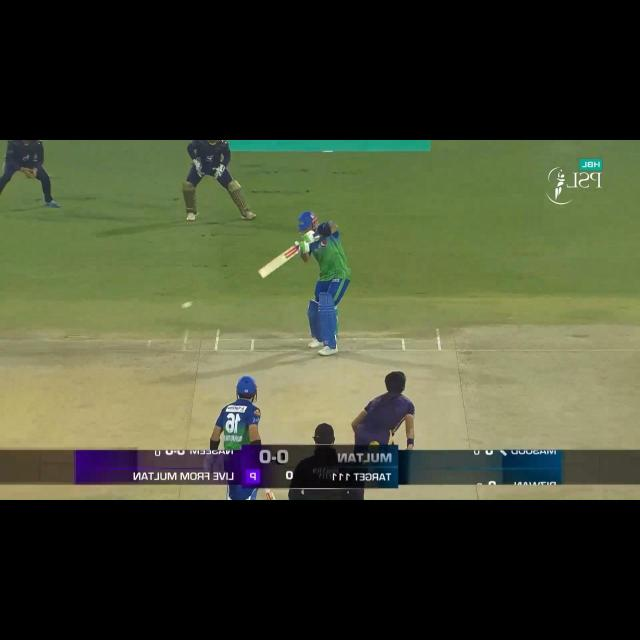bat: (258, 244, 300, 280), (258, 270, 266, 280)
